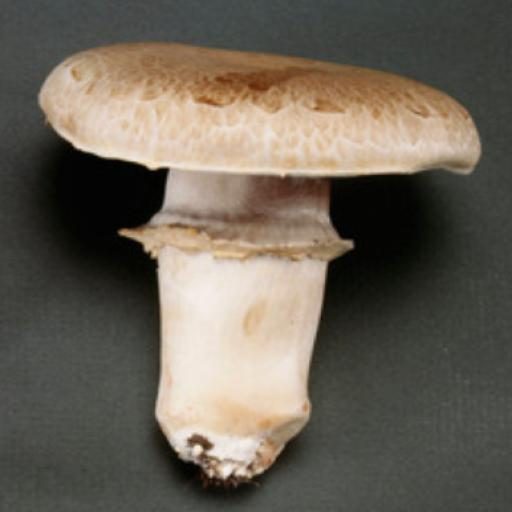mushroom: (40, 34, 475, 475)
